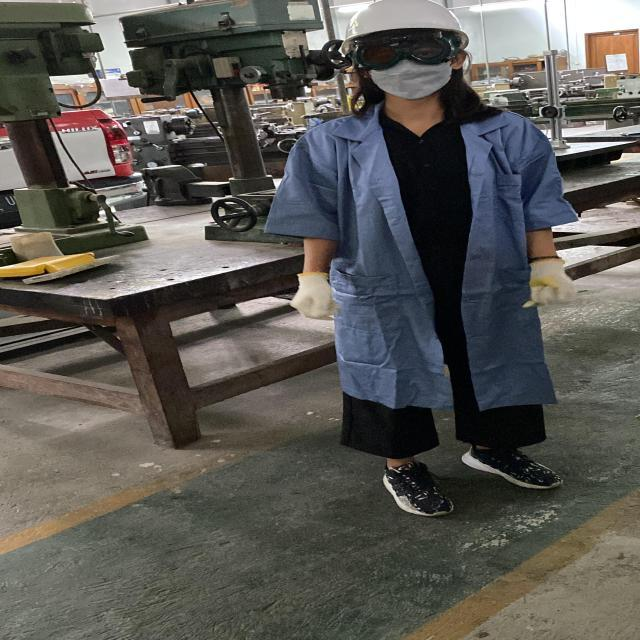glasses: (351, 30, 464, 71)
